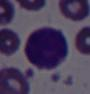L: (25, 26, 68, 70)
